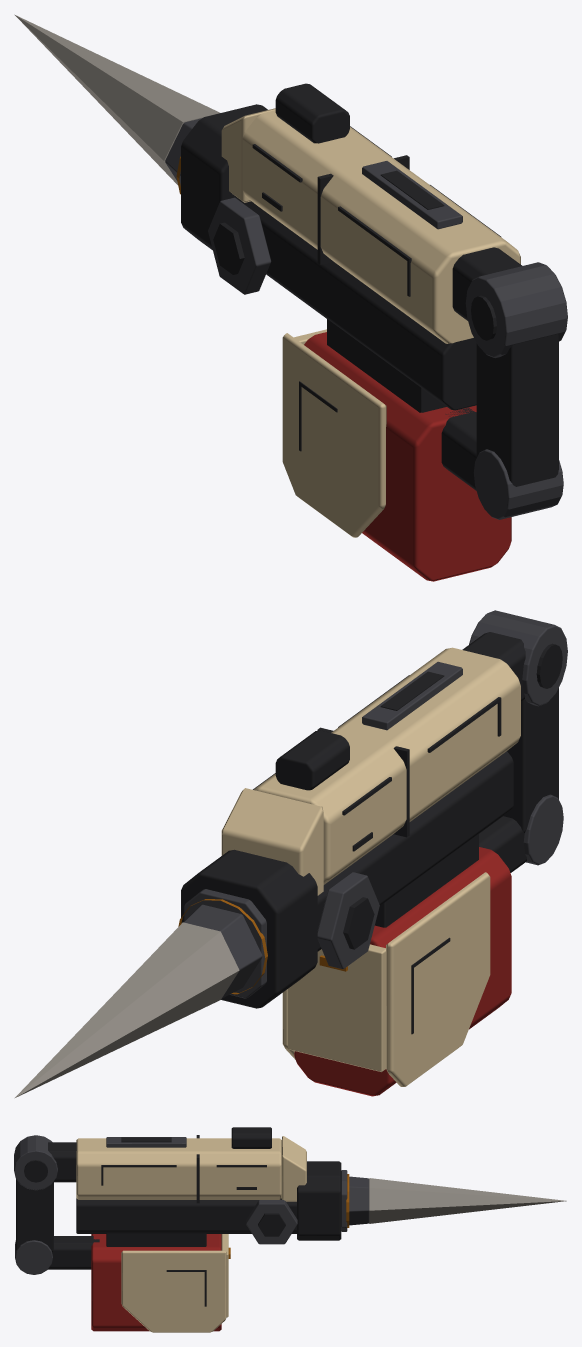
Rendered from pilebunker_3.glb.
The picture shows the model from 3 angles, top to bottom: view 1: azimuth 30°, elevation 25°; view 2: azimuth 150°, elevation 25°; view 3: azimuth 270°, elevation 25°; orthographic projection. The views are drawn at different scales.
Parts seen in each view (by area): view 1: Housing, Magazine, MagazineSlabL, Core, ArmDownLink, SpikeBlade, ArmJointTop, Collar, ArmJointLow, HexPadL, TopBlock, MagazineNeck (+8 smaller); view 2: Housing, MagazineSlabL, SpikeBlade, Collar, MagazineFront, Core, Magazine, HousingNose, ArmDownLink, ArmJointTop, HexPadL, TopBlock (+11 smaller); view 3: Housing, MagazineSlabR, Core, SpikeBlade, Magazine, Collar, ArmDownLink, ArmJointTop, MagazineNeck, ArmLowLink, HexPadR, HousingNose (+10 smaller).
Boxes of the visible parts, x1,y1,x2,y2 form: Housing: (242,110,520,343); Magazine: (304,332,511,581); MagazineSlabL: (282,333,386,537); Core: (236,198,476,410); ArmDownLink: (476,334,558,486); SpikeBlade: (14,14,219,185); ArmJointTop: (465,262,567,357); Collar: (181,104,267,250); ArmJointLow: (473,449,563,519); HexPadL: (208,197,271,294); TopBlock: (275,83,349,143); MagazineNeck: (327,319,446,412); Housing: (254,647,520,884); MagazineSlabL: (386,872,490,1086); SpikeBlade: (14,922,239,1098); Collar: (181,849,317,1008); MagazineFront: (288,944,385,1071); Core: (317,751,513,951); Magazine: (294,847,511,1096); HousingNose: (221,788,323,895); ArmDownLink: (503,688,558,833); ArmJointTop: (469,610,567,706); HexPadL: (317,872,379,969); TopBlock: (275,730,349,790); Housing: (76,1138,281,1199); MagazineSlabR: (121,1250,226,1332); Core: (76,1198,296,1233); SpikeBlade: (369,1178,566,1223); Magazine: (91,1234,221,1331); Collar: (297,1161,341,1240); ArmDownLink: (16,1179,53,1252); ArmJointTop: (14,1135,57,1190); MagazineNeck: (106,1233,206,1246); ArmLowLink: (48,1236,99,1269); HexPadR: (246,1200,297,1244); HousingNose: (282,1136,306,1201).
Bounding box in the file's own units: 0.82 × 2.13 × 5.52.
